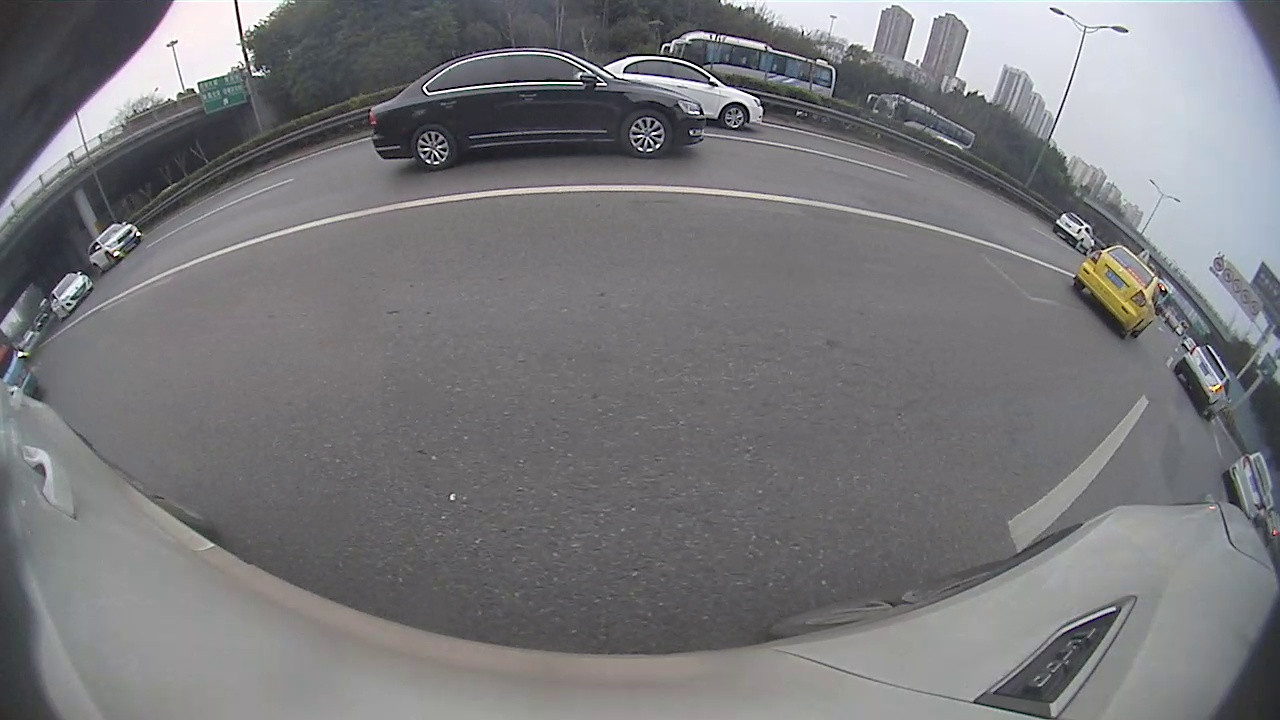car: (366, 46, 705, 170), (597, 57, 764, 132), (1075, 240, 1163, 342), (1173, 343, 1228, 414), (84, 223, 139, 273)
front: (621, 109, 675, 161), (722, 104, 750, 129)
rear: (411, 126, 454, 171)
